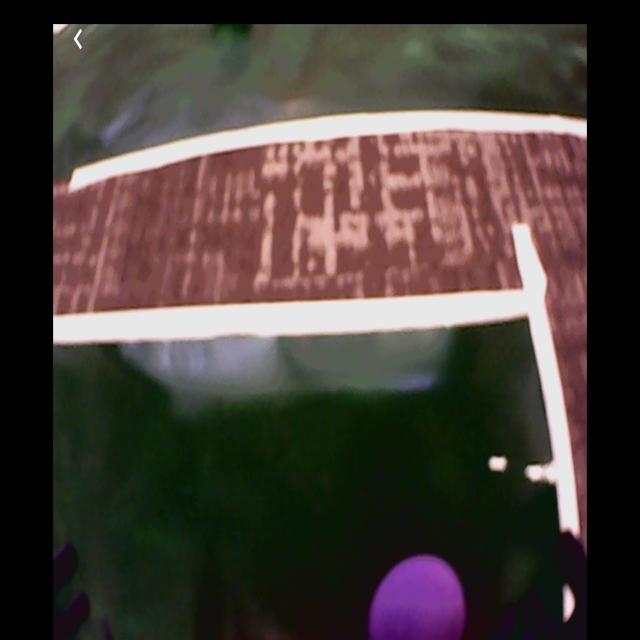ball: (368, 554, 469, 640)
